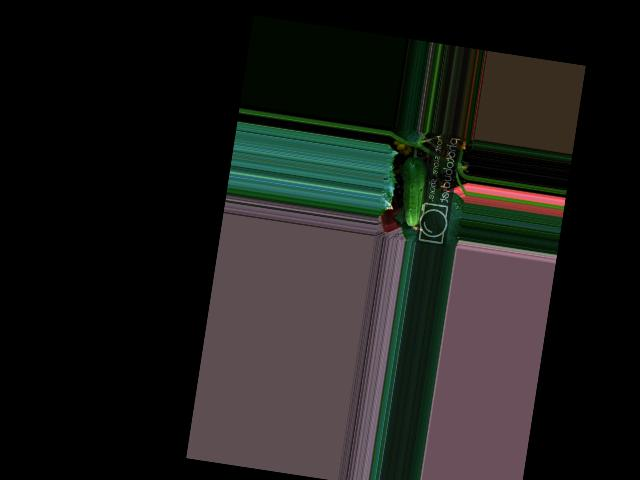cucumber: (394, 156, 432, 228)
